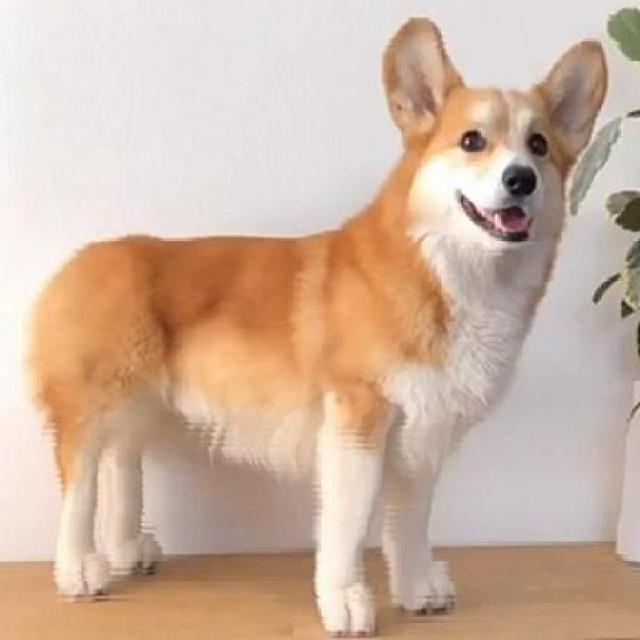Dog: (19, 17, 606, 634)
